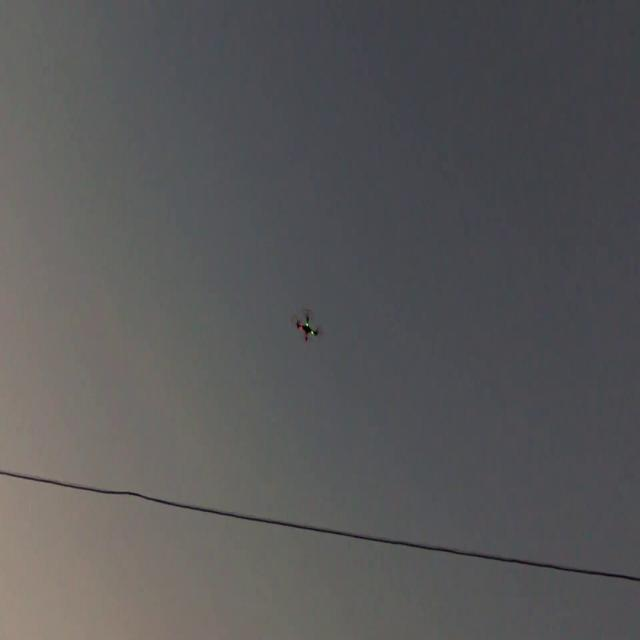Drons: (288, 306, 326, 346)
